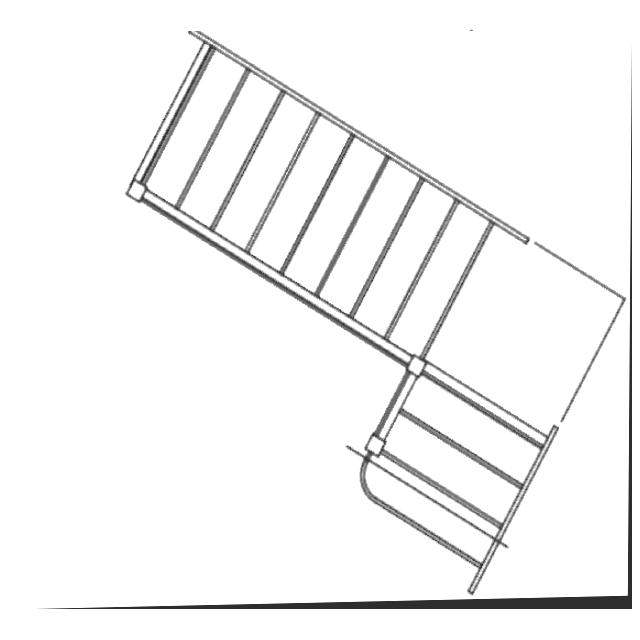stair: (31, 31, 632, 609)
